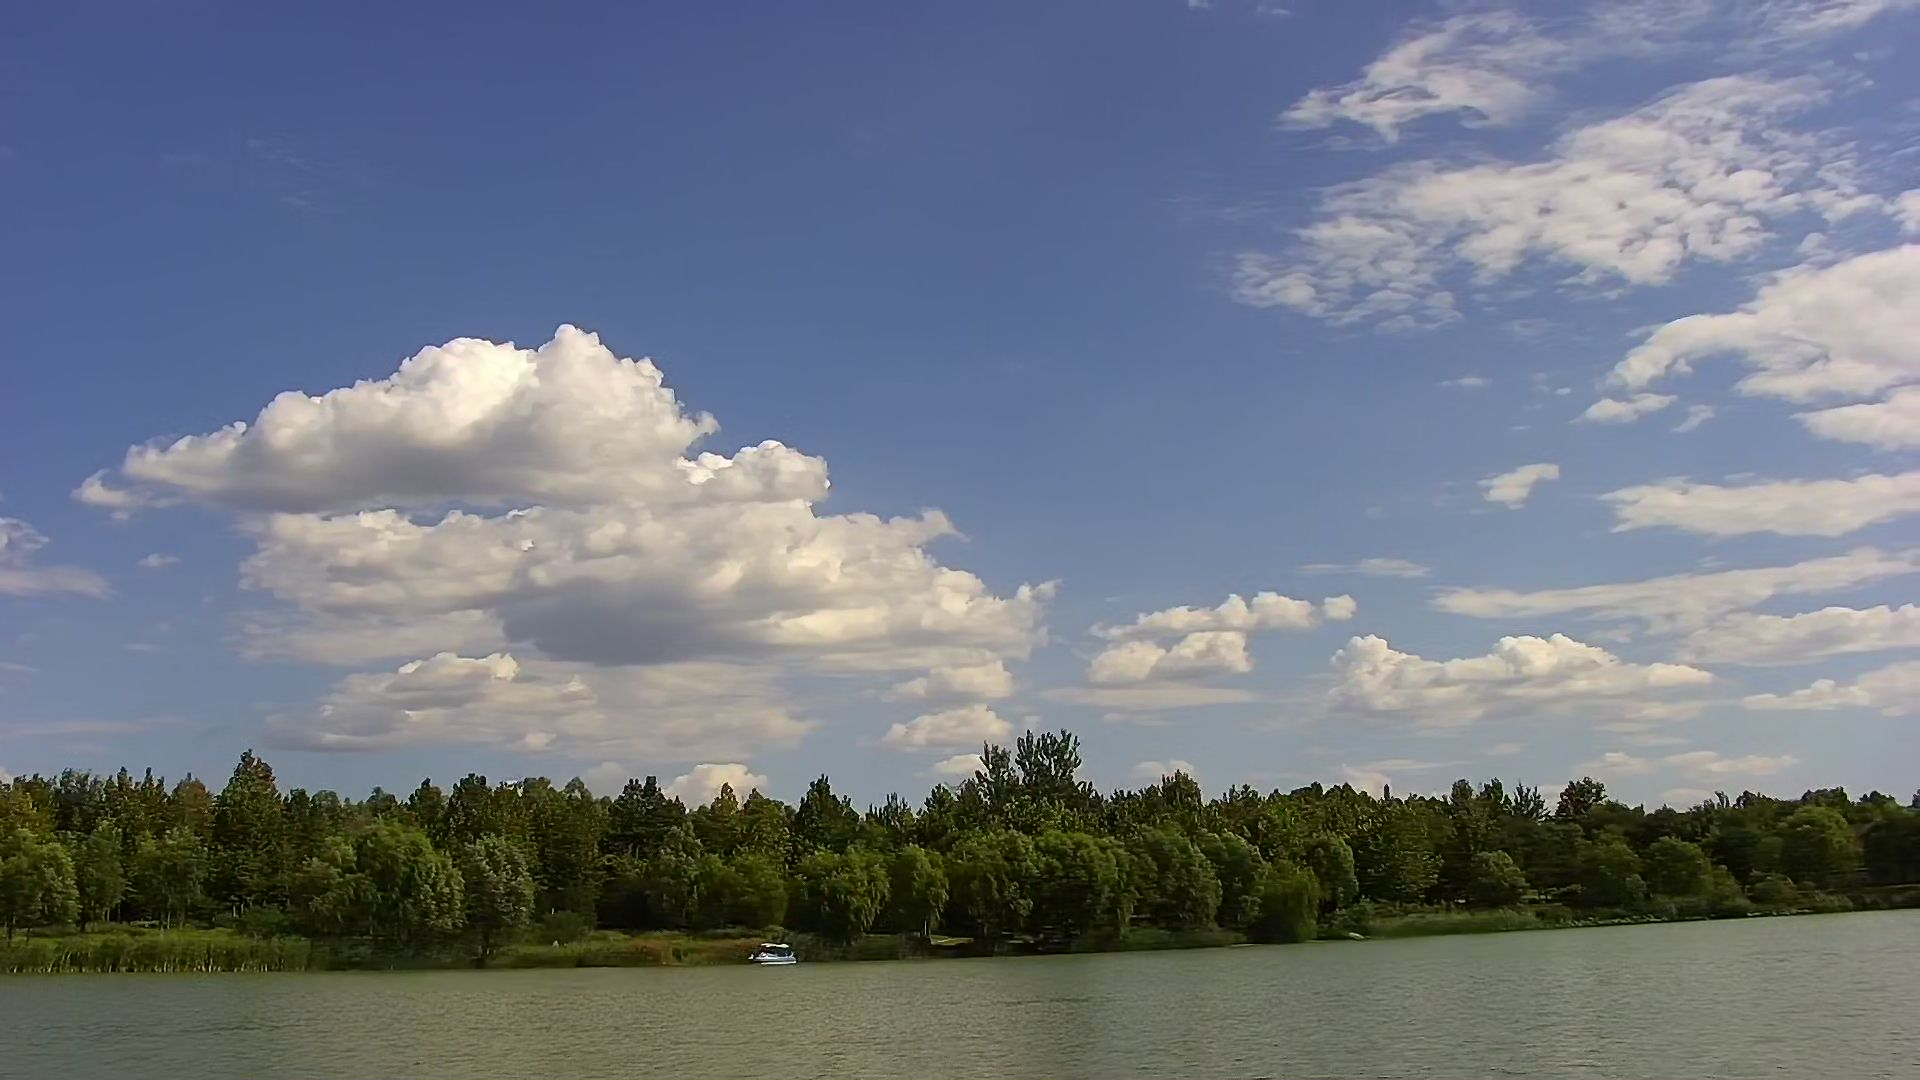boat: (740, 935, 802, 971)
